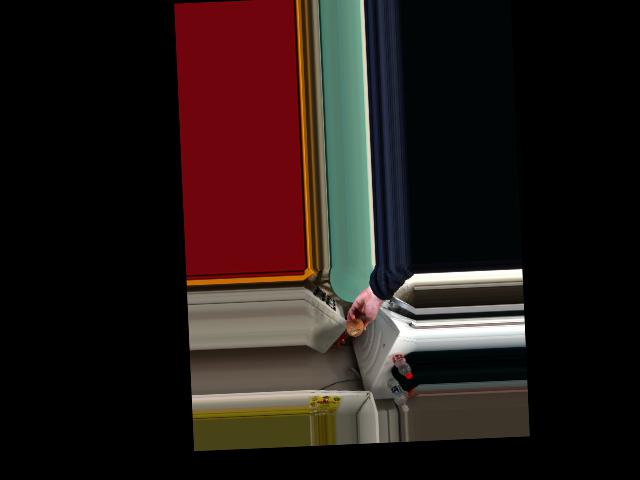sweet_potato: (347, 315, 364, 336)
